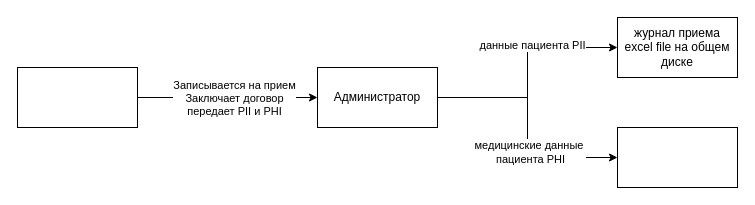
This 755x205 diagram has some shape labels left out. The shapes that lost their labels are listed below. From the top down, each one's centre as x and y in pixels, then its label:
At (x=77, y=97): "Пациент".
At (x=677, y=157): "медкарта, договор сканы документов на общем диске".
